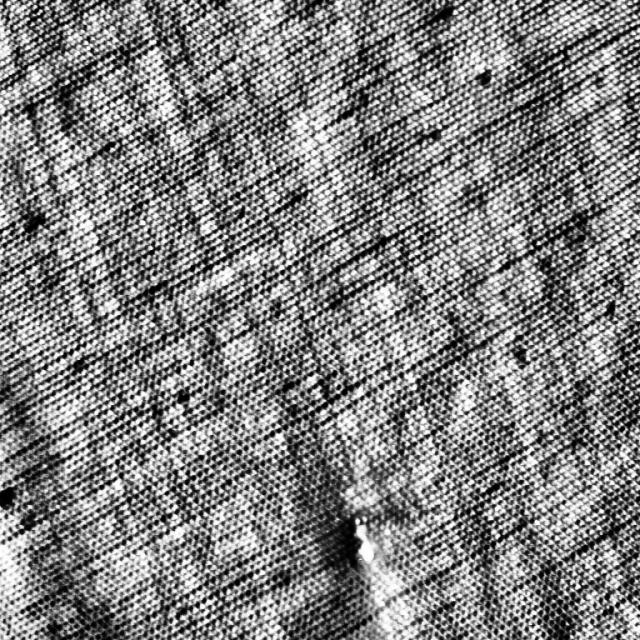Hole: (348, 508, 378, 568)
